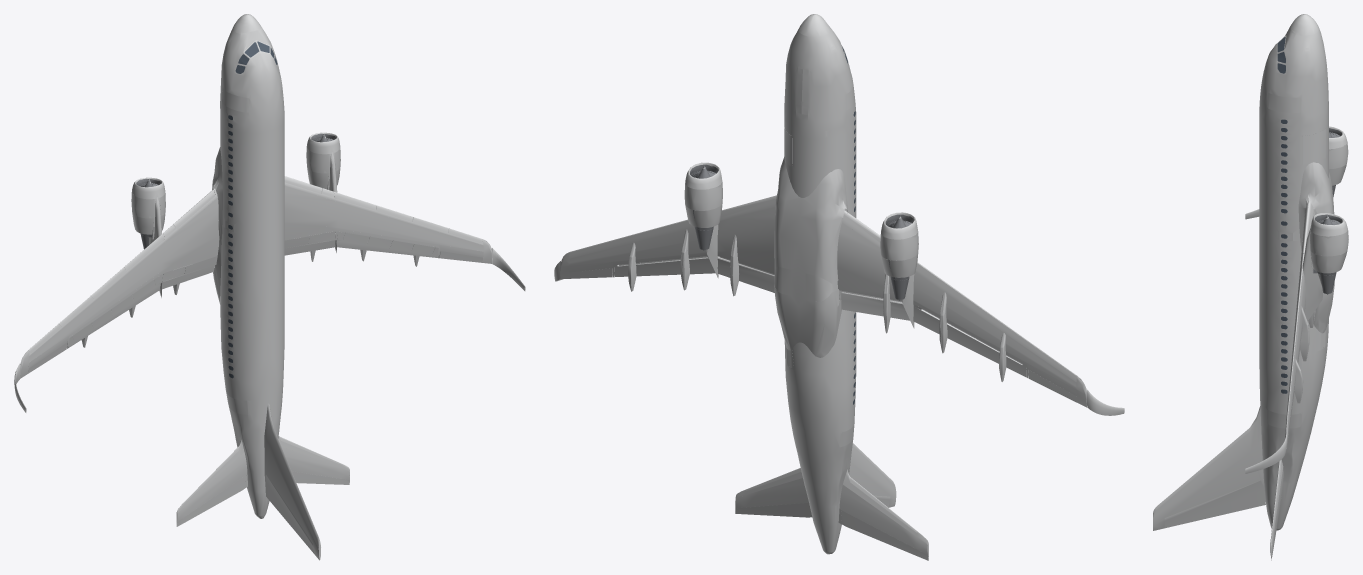
3 views of the same model, side by side, from view 1: azimuth 30°, elevation 25°; view 2: azimuth 150°, elevation 25°; view 3: azimuth 270°, elevation 25° (orthographic). The views are drawn at different scales.
Visible parts, largest first — view 1: A319; view 2: A319; view 3: A319.
Boxes of the visible parts, bbox=[...] form: A319: bbox=[14, 14, 525, 560]; A319: bbox=[554, 14, 1124, 560]; A319: bbox=[1153, 14, 1348, 560].
Bounding box in the file's own units: 35.87 × 33.84 × 11.63.
